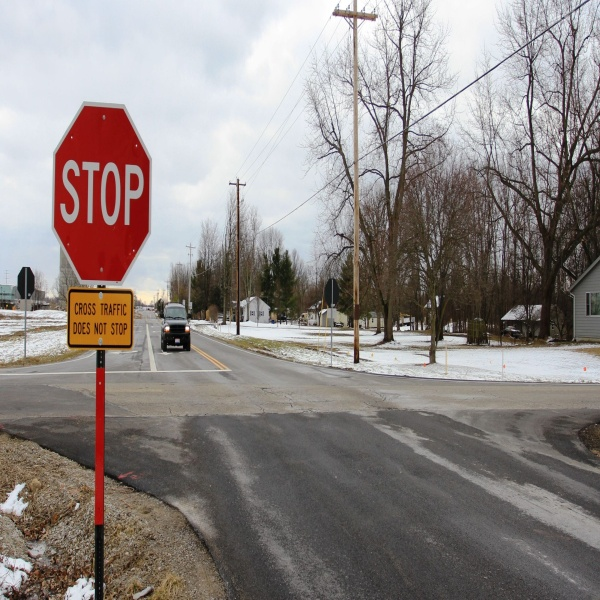stop: (47, 102, 154, 286)
